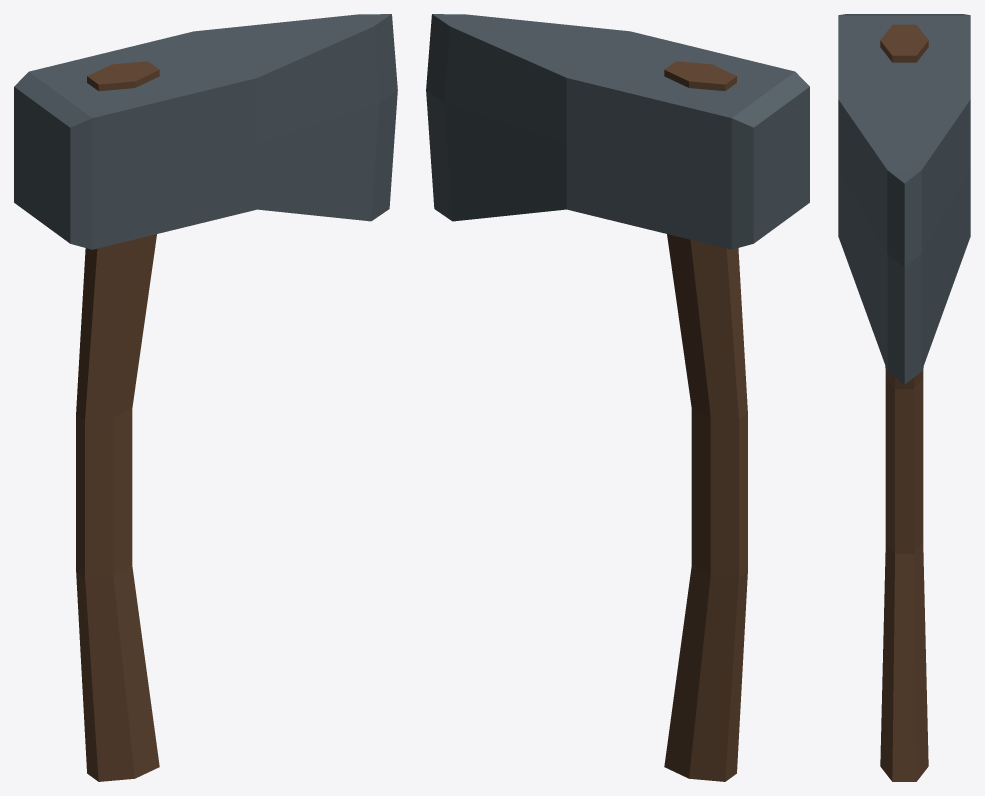
Rendered from hipermegaaxe.fbx.
The picture shows the model from 3 angles, left to right: view 1: azimuth 30°, elevation 25°; view 2: azimuth 150°, elevation 25°; view 3: azimuth 270°, elevation 25°; orthographic projection. The views are drawn at different scales.
Parts seen in each view (by area): view 1: Cube, Cylinder; view 2: Cube, Cylinder; view 3: Cube, Cylinder.
Boxes of the visible parts, x1,y1,x2,y2 form: Cube: (14,14,397,249); Cylinder: (76,61,159,781); Cube: (426,14,809,249); Cylinder: (664,61,747,781); Cube: (838,14,970,384); Cylinder: (880,24,928,781).
Size of the model in its own units: 291 by 544 by 90.06.
